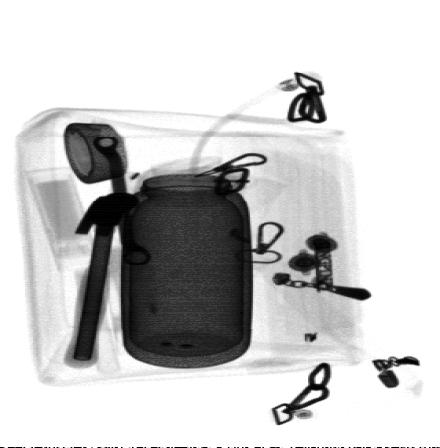Hammer: (63, 191, 142, 368)
Wrench: (90, 135, 152, 268)
